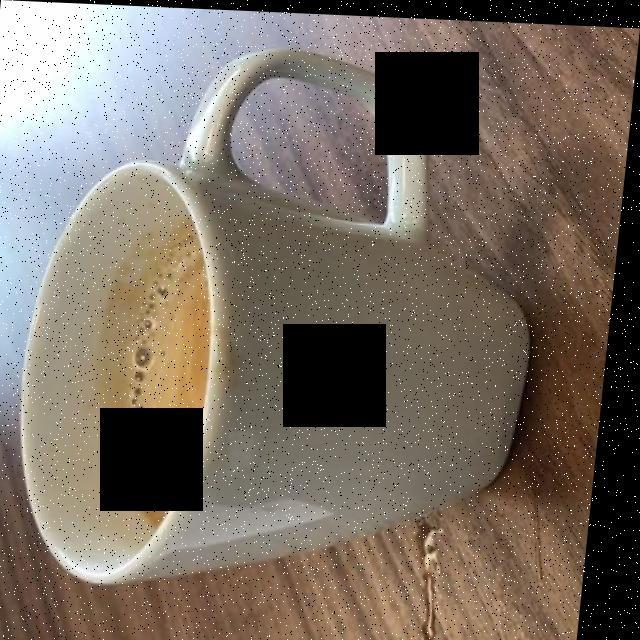coffee: (118, 224, 241, 521)
